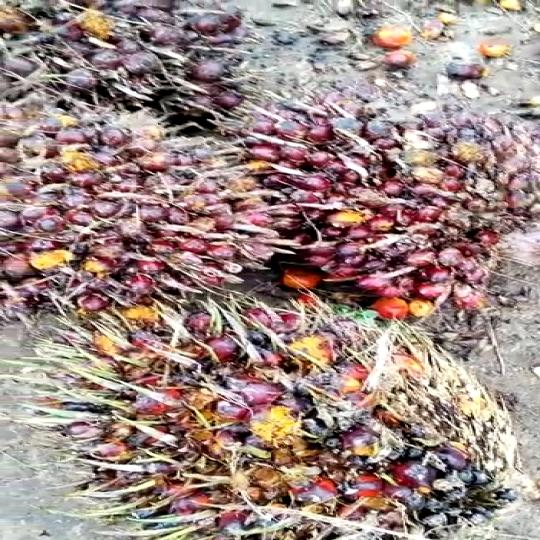masak: (67, 293, 540, 540), (206, 106, 540, 326), (0, 97, 286, 312)
